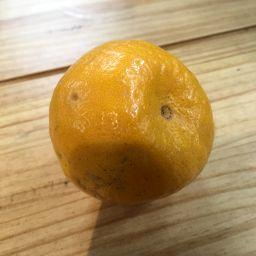Ripe: (50, 40, 215, 204)
